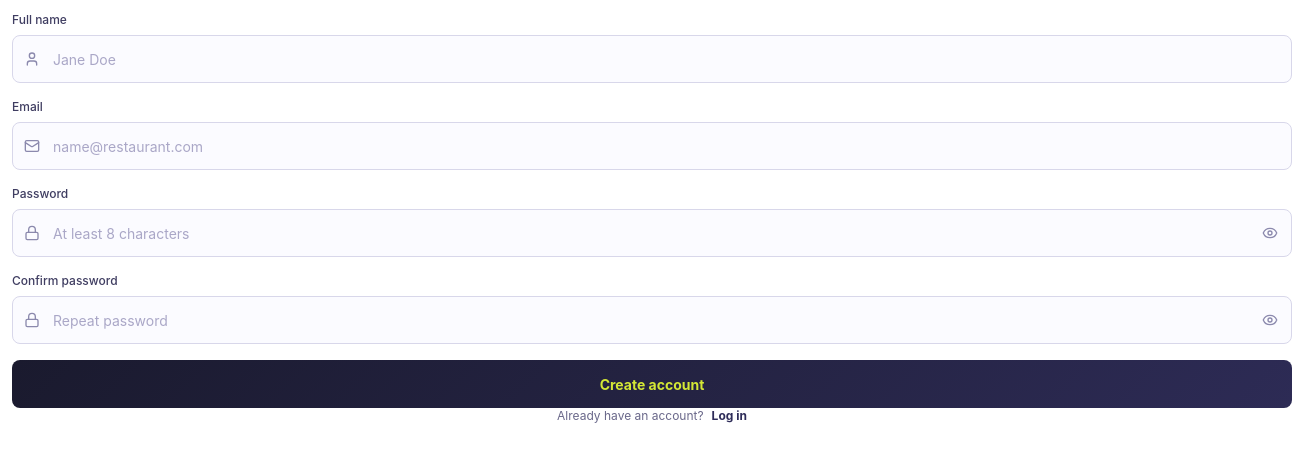
Test: RegisterView › password strength indicator › shows "Weak" for a short simple password
Type "abc" into the password field labelled "Password" at [652, 233], box [12,209,1292,257]
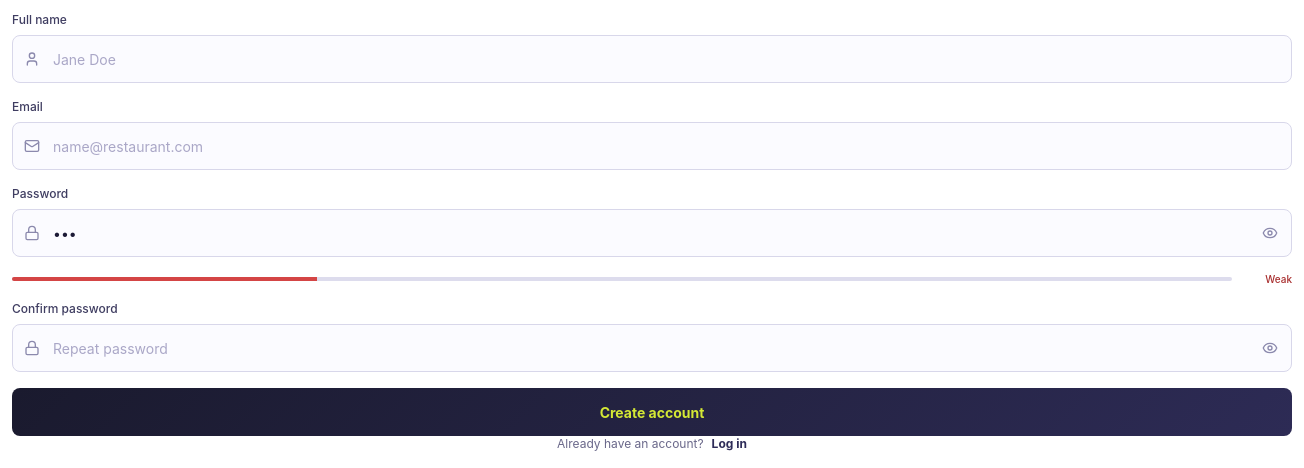
Check: the text with class "strength-label" reads "Weak", box [1265,273,1292,285]
